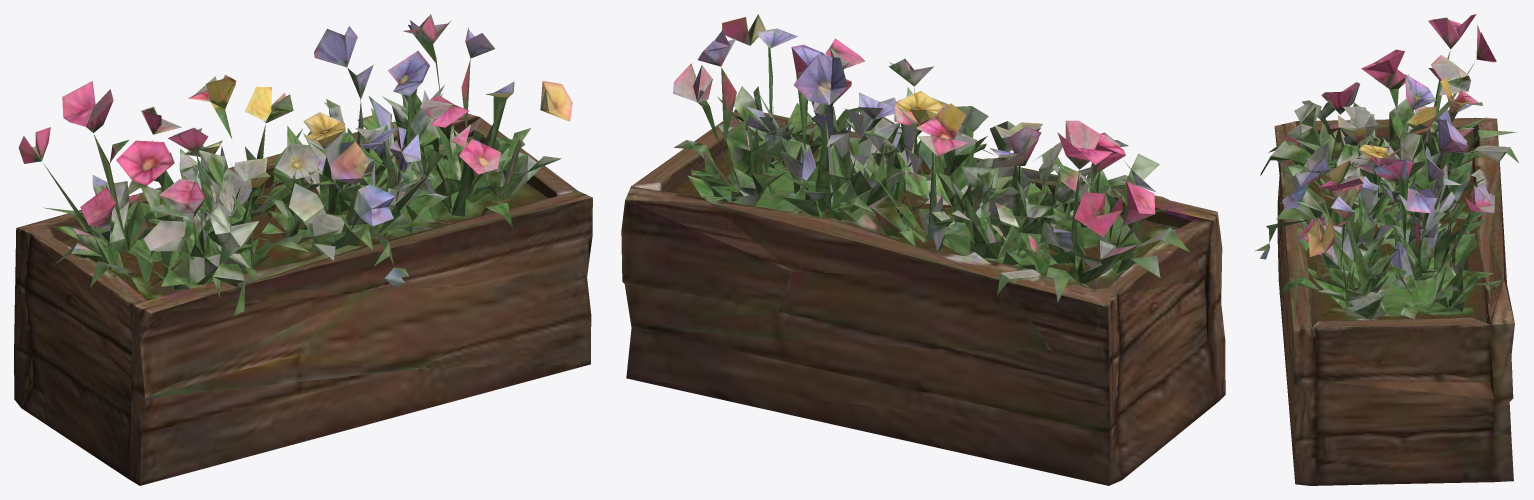
The model's file is flower_box_3d.glb.
3 views of the same model, side by side, from view 1: azimuth 30°, elevation 25°; view 2: azimuth 150°, elevation 25°; view 3: azimuth 270°, elevation 25° (orthographic). The views are drawn at different scales.
Visible parts, largest first — view 1: Mesh_0; view 2: Mesh_0; view 3: Mesh_0.
Boxes of the visible parts, x1,y1,x2,y2 form: Mesh_0: (14,14,592,485); Mesh_0: (621,14,1225,485); Mesh_0: (1255,14,1518,485).
Bounding box in the file's own units: 1.05 × 0.6875 × 0.5541.
1 material, 1 textured.
